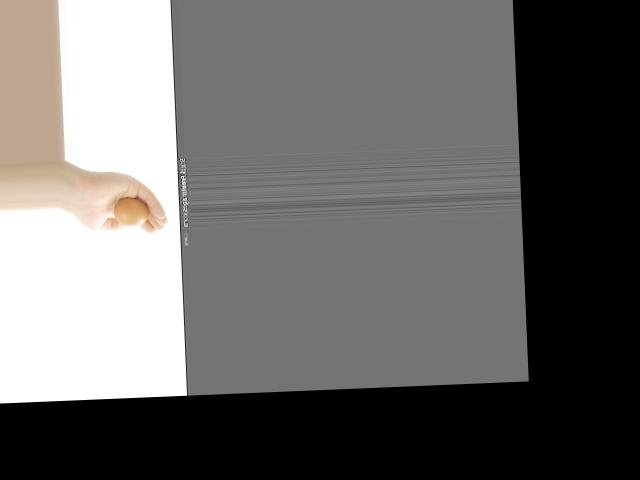egg: (113, 197, 151, 226)
